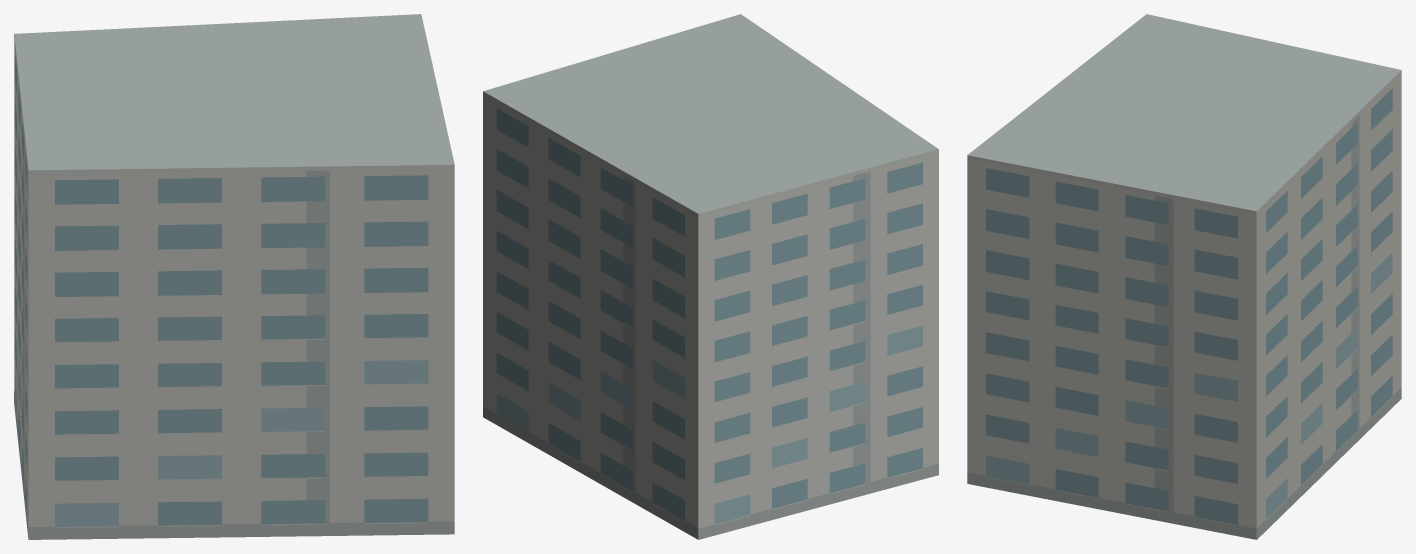
Rendered from survey-upis-33038475.glb.
The picture shows the model from 3 angles, left to right: view 1: azimuth 30°, elevation 25°; view 2: azimuth 150°, elevation 25°; view 3: azimuth 270°, elevation 25°; orthographic projection. The views are drawn at different scales.
Parts seen in each view (by area): view 1: survey-upis-33038475.tmp; view 2: survey-upis-33038475.tmp; view 3: survey-upis-33038475.tmp.
Part boxes in pixels (<box>): survey-upis-33038475.tmp: <box>14,14,454,539</box>; survey-upis-33038475.tmp: <box>483,14,938,539</box>; survey-upis-33038475.tmp: <box>967,14,1401,539</box>.
Bounding box in the file's own units: 26.76 × 20.77 × 24.89.
